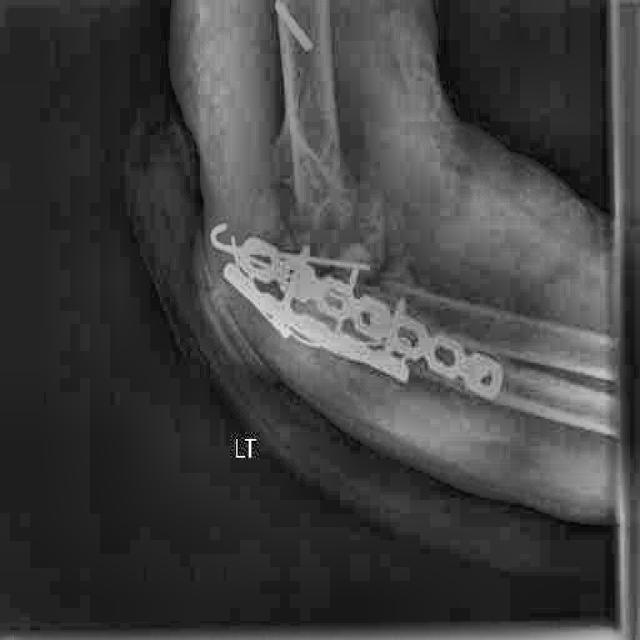elbow positive: (277, 190, 395, 359)
